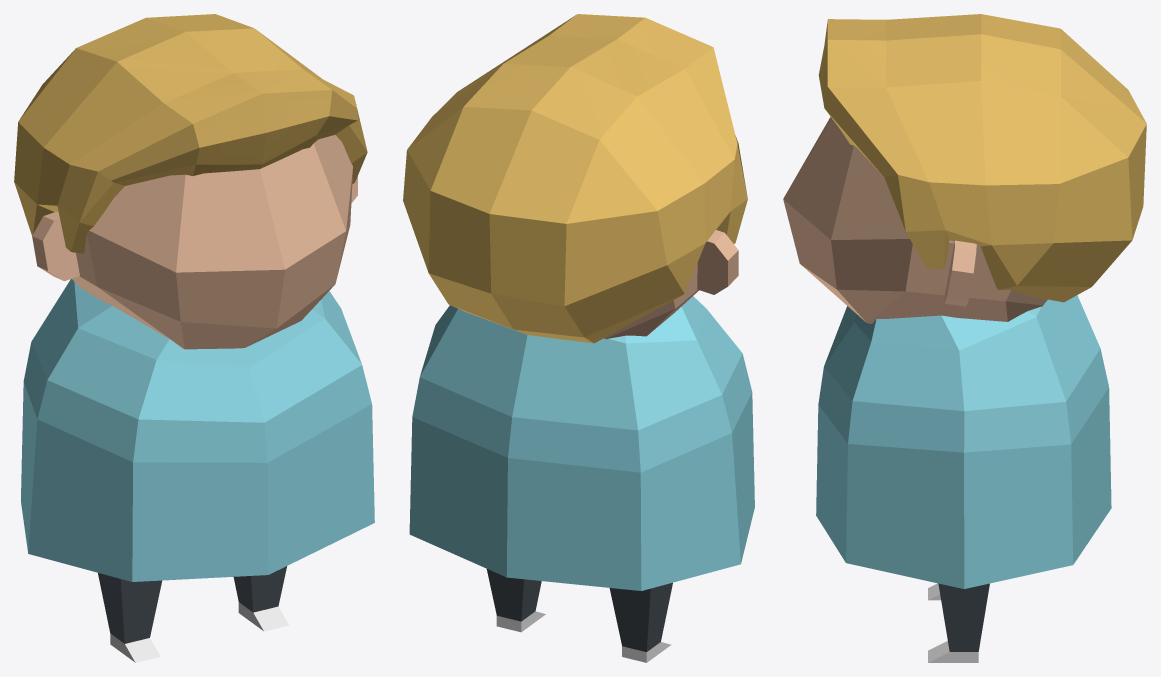
Rendered from feissari.glb.
3 views of the same model, side by side, from view 1: azimuth 30°, elevation 25°; view 2: azimuth 150°, elevation 25°; view 3: azimuth 270°, elevation 25° (orthographic). The views are drawn at different scales.
Parts seen in each view (by area): view 1: Cube; view 2: Cube; view 3: Cube.
Part boxes in pixels (x1,y1,x2,y2): Cube: (14, 14, 374, 662); Cube: (403, 14, 754, 662); Cube: (783, 14, 1146, 662).
Bounding box in the file's own units: 1.23 × 2.1 × 1.17.
